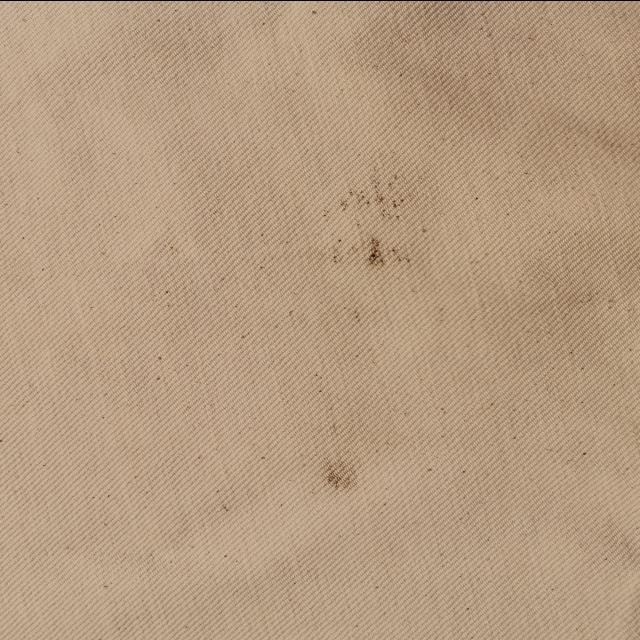taaaches: (307, 165, 437, 273), (302, 451, 366, 495)
